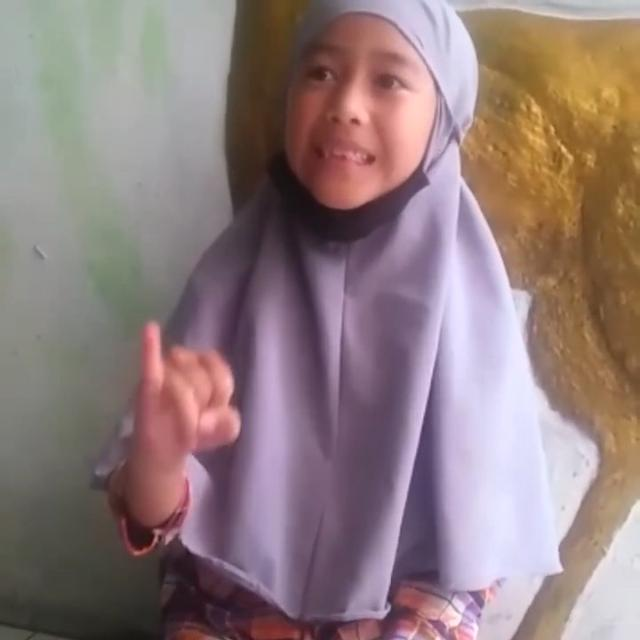I: (136, 321, 242, 481)
